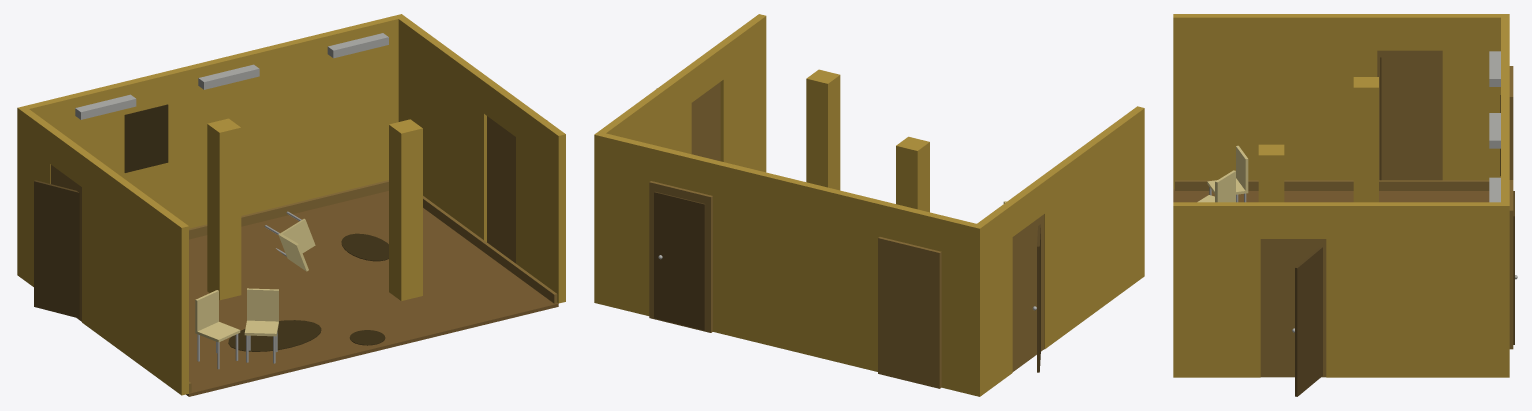
The model's file is backrooms-diorama.glb.
The picture shows the model from 3 angles, left to right: view 1: azimuth 30°, elevation 25°; view 2: azimuth 150°, elevation 25°; view 3: azimuth 270°, elevation 25°; orthographic projection. The views are drawn at different scales.
Visible parts, largest first — view 1: backWall, carpetFloor, leftWallSegAbove, rightWallSegBelow, rightWallSegAbove, pillarA, pillarB, leftWallDoorSlab, rightWallDoorFrame, leftWallSegBelow, carpetStain (×2), wallStain (+8 smaller); view 2: backWall, leftWallSegAbove, backWallDoorTwoFrame, doorSlab, rightWallSegAbove, leftWallSegBelow, rightWallSegBelow, pillarB, leftWallDoorFrame, doorFrame, pillarA, rightWallDoorFrame (+3 smaller); view 3: rightWallSegBelow, leftWallSegAbove, rightWallSegAbove, leftWallSegBelow, leftWallDoorFrame, rightWallDoorFrame, rightWallDoorSlab, backWall, pillarA, carpetFloor, baseboardLeft, rightWallLintel (+7 smaller).
Part boxes in pixels (x1,y1,x2,y2): backWall: (17, 14, 405, 277); carpetFloor: (186, 191, 558, 396); leftWallSegAbove: (82, 153, 188, 395); rightWallSegBelow: (398, 17, 490, 241); rightWallSegAbove: (516, 103, 565, 303); pillarA: (207, 118, 241, 300); pillarB: (389, 119, 422, 300); leftWallDoorSlab: (34, 180, 79, 318); rightWallDoorFrame: (487, 116, 515, 263); leftWallSegBelow: (21, 109, 56, 286); carpetStain (×2): (228, 233, 388, 351); wallStain: (124, 104, 168, 172); backWall: (594, 131, 984, 396); leftWallSegAbove: (1038, 106, 1144, 349); backWallDoorTwoFrame: (878, 237, 941, 388); doorSlab: (654, 191, 705, 330); rightWallSegAbove: (717, 14, 766, 172); leftWallSegBelow: (977, 203, 1012, 393); rightWallSegBelow: (599, 69, 691, 154); pillarB: (806, 69, 840, 190); leftWallDoorFrame: (1012, 214, 1044, 371); doorFrame: (649, 181, 712, 332); pillarA: (896, 136, 929, 212); rightWallDoorFrame: (691, 82, 720, 161); rightWallSegBelow: (1326, 202, 1500, 377); leftWallSegAbove: (1173, 14, 1377, 189); rightWallSegAbove: (1173, 202, 1260, 377); leftWallSegBelow: (1442, 14, 1500, 180); leftWallDoorFrame: (1377, 50, 1442, 180); rightWallDoorFrame: (1260, 239, 1326, 377); rightWallDoorSlab: (1295, 247, 1322, 396); backWall: (1501, 14, 1509, 377); pillarA: (1353, 77, 1378, 202); carpetFloor: (1173, 189, 1489, 202); baseboardLeft: (1175, 180, 1489, 190); rightWallLintel: (1260, 202, 1326, 238).
Bounding box in the file's own units: 7.27 × 2.65 × 4.73.
